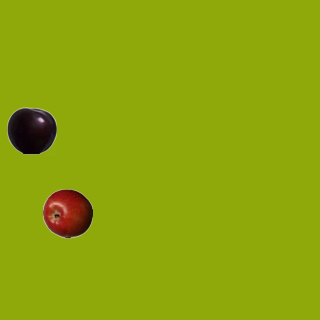Apple Braeburn: (42, 188, 92, 238)
Cherry Wax Black: (6, 105, 56, 155)
